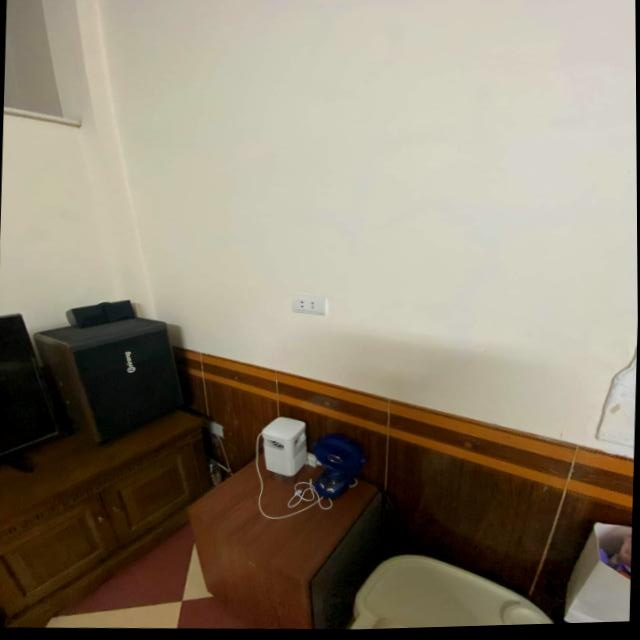outlet: (290, 296, 327, 317)
